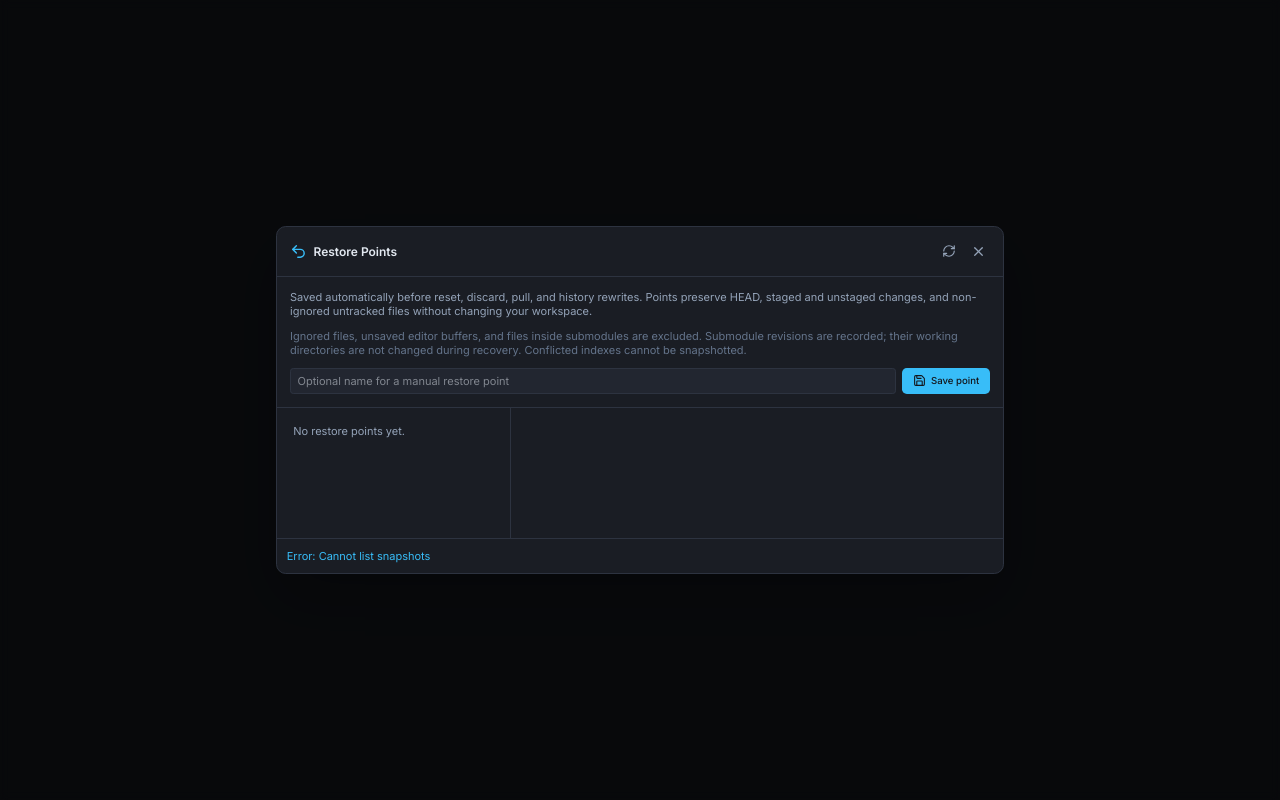
Test case: RestorePointsModal › reports load or restore errors and refreshes after a failed operation
Expected: the message reads "Error: Cannot list snapshots", [287,549,430,563]
Click the button titled "Refresh points" at (949, 251), box [938,240,961,263]
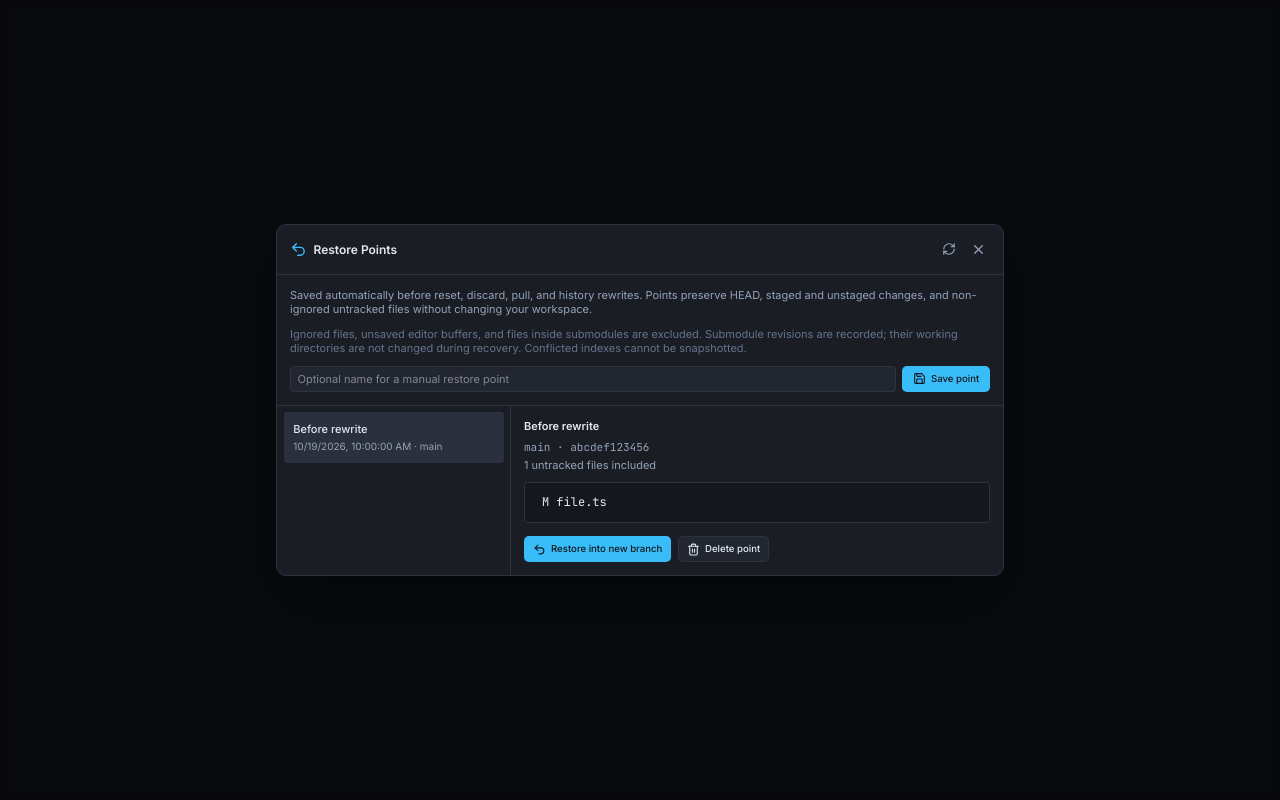
Expected: the heading "Before rewrite" is shown, [524,419,599,433]
Click the button "Restore into new branch" at (598, 549), box [524,536,672,562]
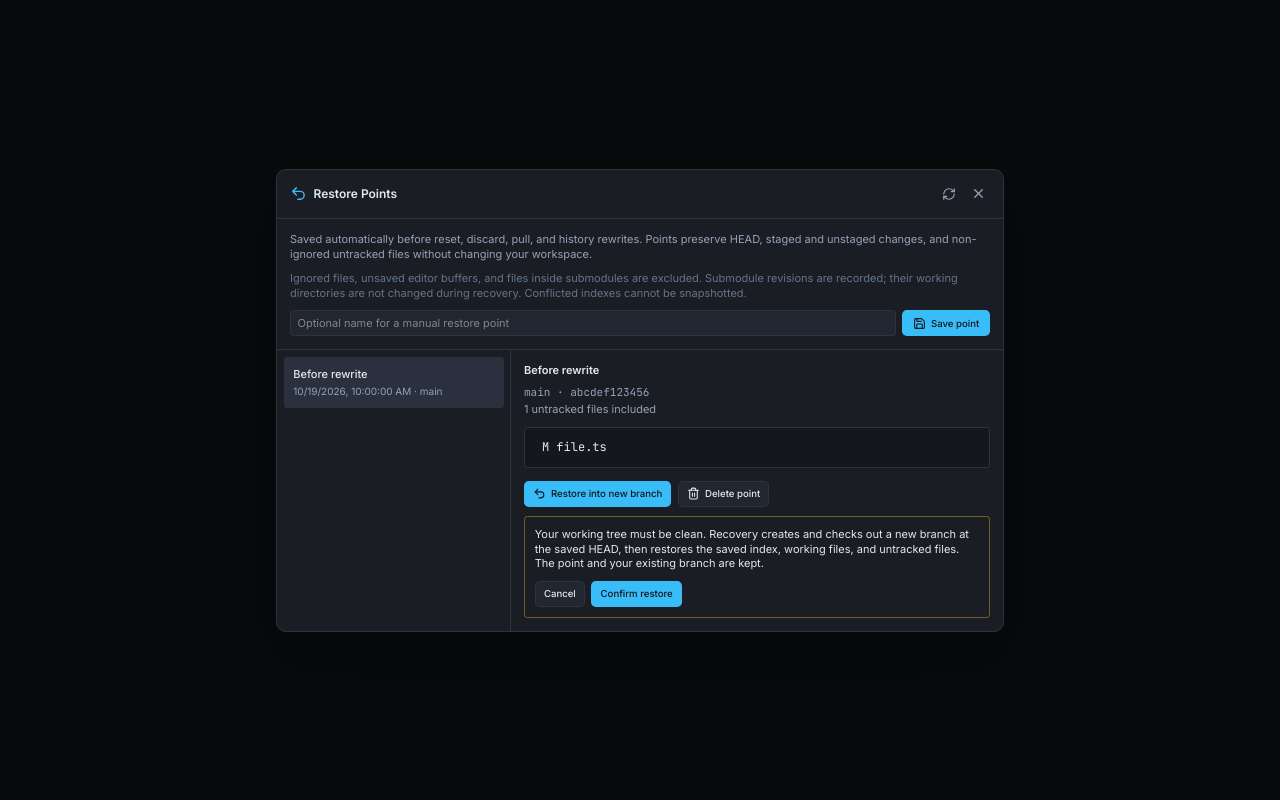
Click the button "Confirm restore" at (637, 594), box [591,581,682,607]
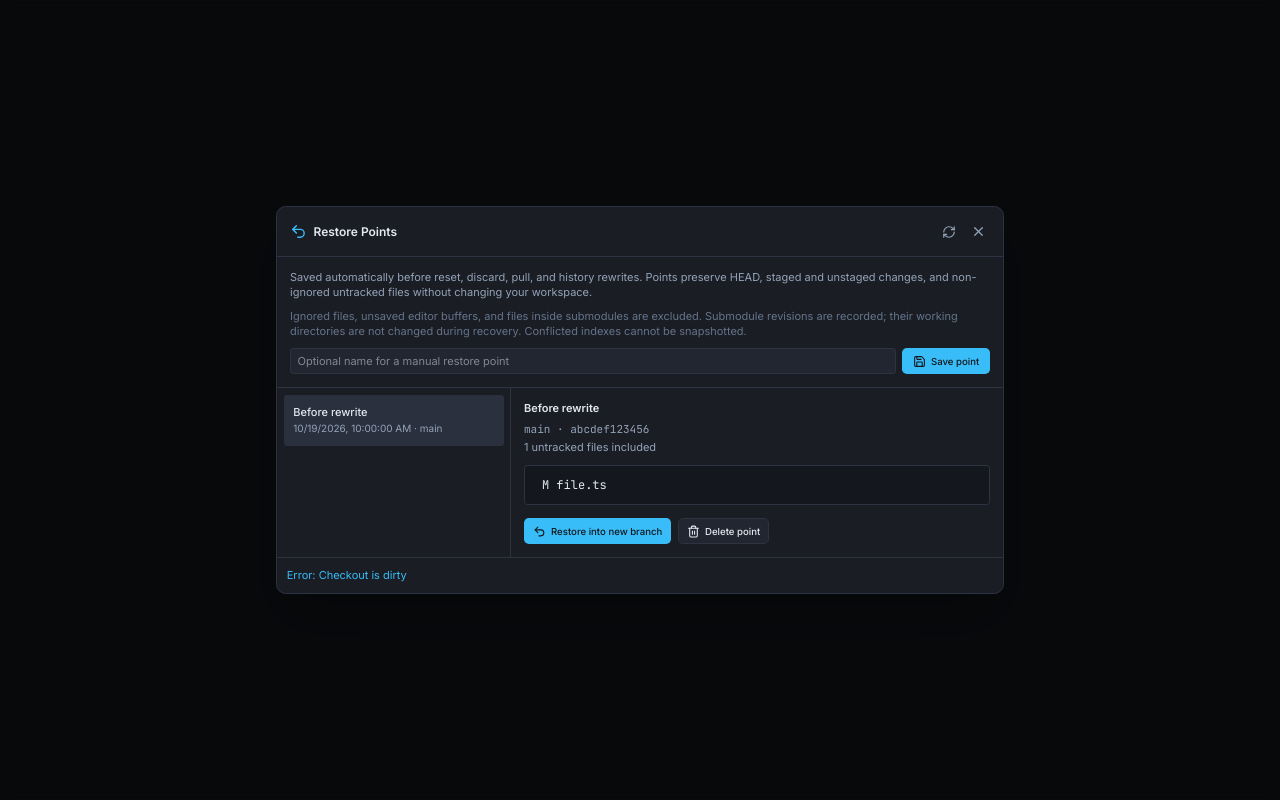
Expected: the text "Error: Checkout is dirty" is shown, [277,557,1003,593]
